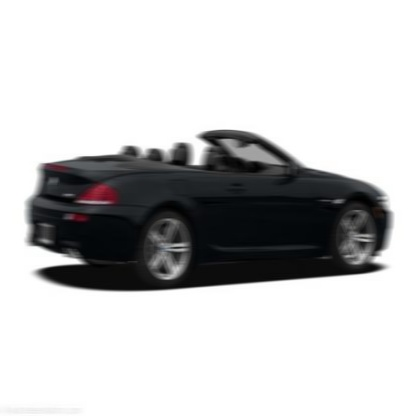Vehicle: (27, 130, 391, 287)
